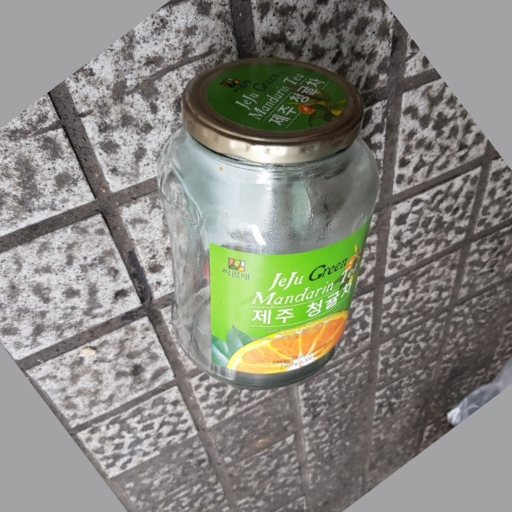Glass_5: (157, 54, 377, 389)
